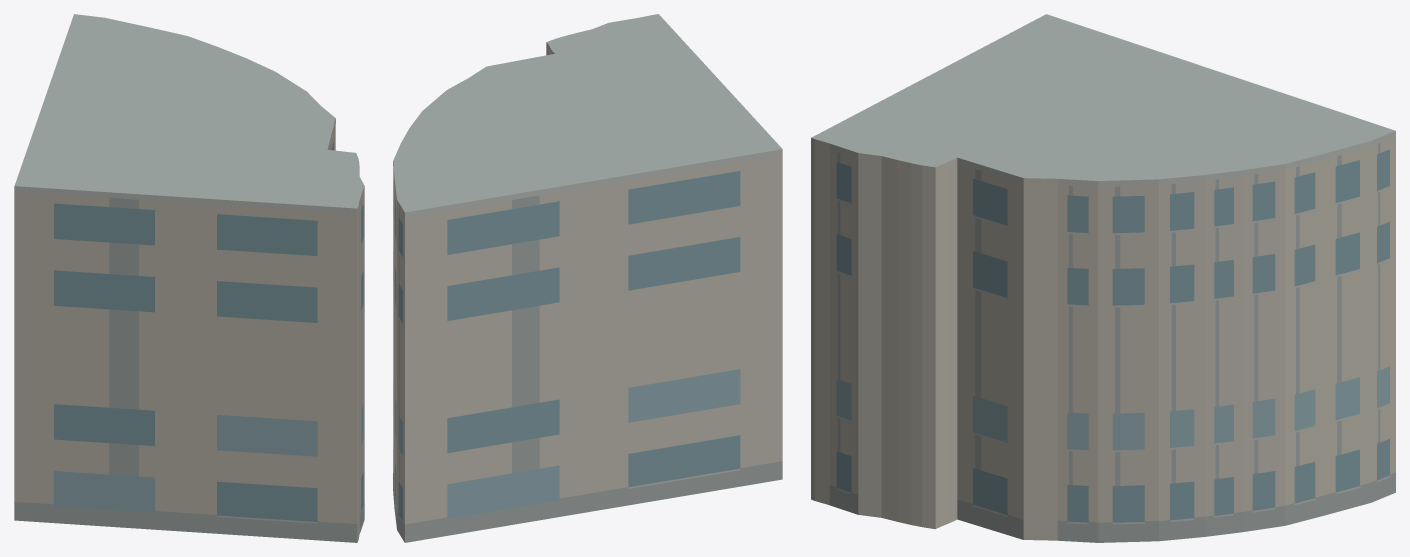
The model's file is survey-upis-32947952.glb.
3 views of the same model, side by side, from view 1: azimuth 30°, elevation 25°; view 2: azimuth 150°, elevation 25°; view 3: azimuth 270°, elevation 25° (orthographic). The views are drawn at different scales.
Parts seen in each view (by area): view 1: survey-upis-32947952.tmp; view 2: survey-upis-32947952.tmp; view 3: survey-upis-32947952.tmp.
Boxes of the visible parts, bbox=[...] form: survey-upis-32947952.tmp: bbox=[14, 14, 364, 542]; survey-upis-32947952.tmp: bbox=[393, 14, 782, 542]; survey-upis-32947952.tmp: bbox=[811, 14, 1395, 542].
Bounding box in the file's own units: 14.56 × 14.7 × 21.54.
